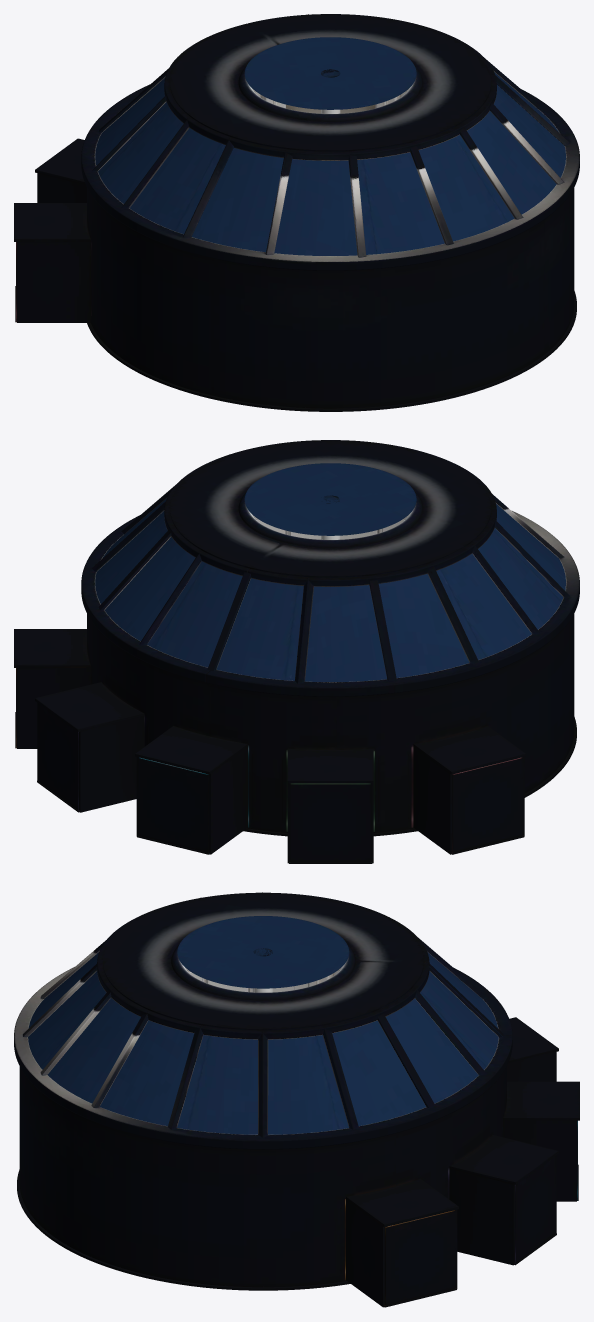
Rendered from hall_baked_m.glb.
3 renders of one model, top to bottom at view 1: azimuth 30°, elevation 25°; view 2: azimuth 150°, elevation 25°; view 3: azimuth 270°, elevation 25°, orthographic.
Parts seen in each view (by area): view 1: baked_ceiling, baked_walls, baked_doors, baked_floor; view 2: baked_ceiling, baked_doors, baked_walls, baked_floor; view 3: baked_ceiling, baked_walls, baked_doors, baked_floor.
Boxes of the visible parts, box(x1,y1,x2,y2) form: baked_ceiling: box(81, 14, 579, 270); baked_walls: box(87, 88, 574, 407); baked_doors: box(14, 138, 91, 322); baked_floor: box(87, 291, 576, 411); baked_ceiling: box(81, 440, 579, 696); baked_doors: box(14, 629, 526, 863); baked_walls: box(87, 514, 574, 831); baked_floor: box(243, 717, 576, 836); baked_ceiling: box(14, 892, 512, 1149); baked_walls: box(19, 967, 506, 1286); baked_doors: box(340, 1017, 579, 1307); baked_floor: box(17, 1169, 350, 1290).
Bounding box in the file's own units: 20.64 × 9.02 × 19.75.
Materials: 10 (10 with a texture image).
